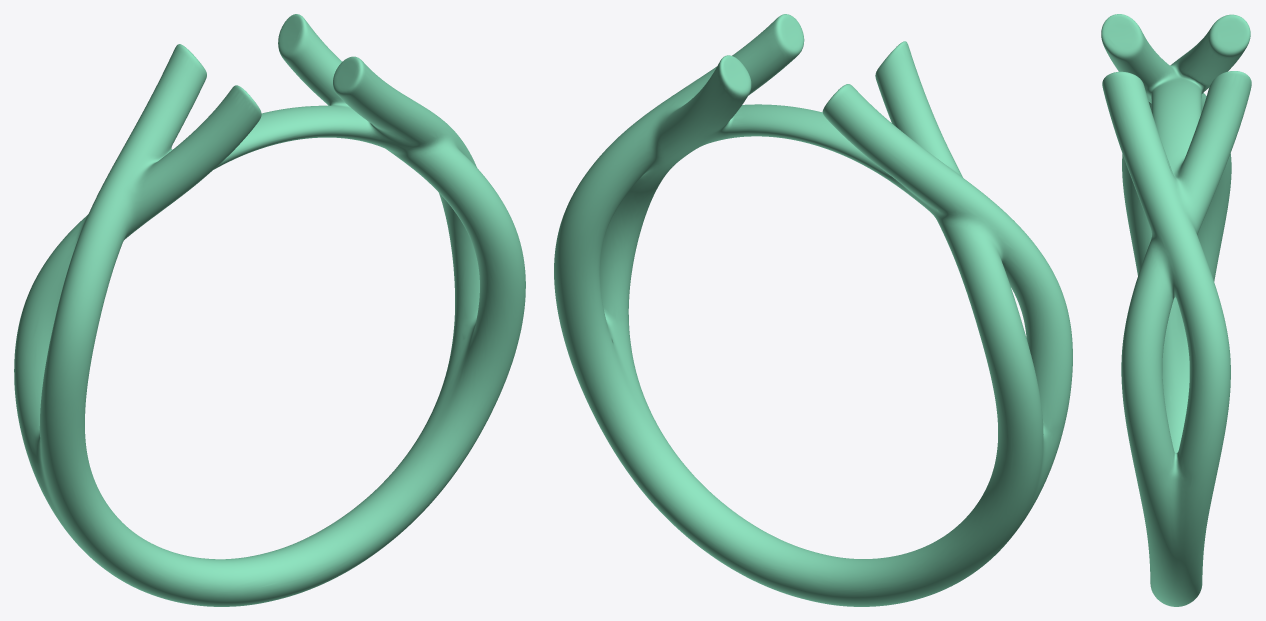
3 renders of one model, left to right at view 1: azimuth 30°, elevation 25°; view 2: azimuth 150°, elevation 25°; view 3: azimuth 270°, elevation 25°, orthographic.
Visible parts, largest first — view 1: Metal02; view 2: Metal02; view 3: Metal02.
Part boxes in pixels (x1,y1,x2,y2): Metal02: (14, 14, 525, 606); Metal02: (554, 14, 1072, 606); Metal02: (1101, 14, 1251, 606).
Bounding box in the file's own units: 21.01 × 22.81 × 5.78.
